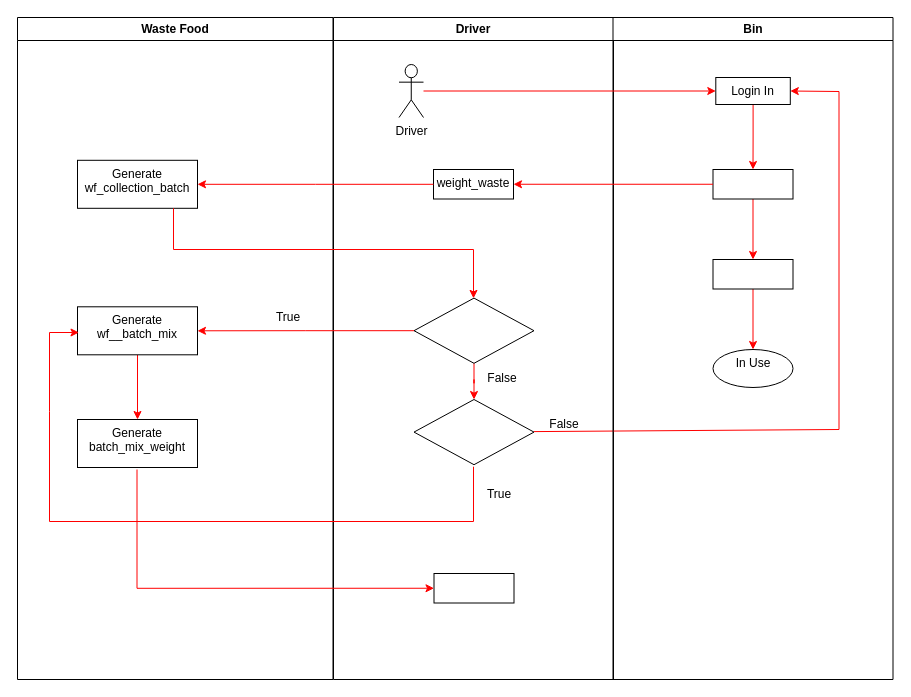
The diagram is 911 pixels wide and 697 high, and some of its shapes have lost their labels. Each missing label, with the centre of its shape:
"Empty Bin" goes at (752,273).
"Is All Bin Empty" goes at (473,431).
"Is Car Full" goes at (473,330).
"Record" goes at (752,183).
"SendPosition" goes at (473,587).
